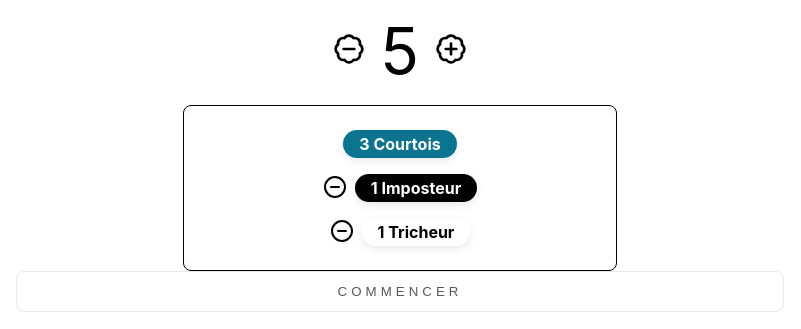
Test: CreateGamePage › Given I arrive on this page     When I click on remove count button     Then the counter is egal at 4
The width and height of the screenshot is (801, 329).
Click the button named "less-button": click(349, 50) [333,33,365,68]
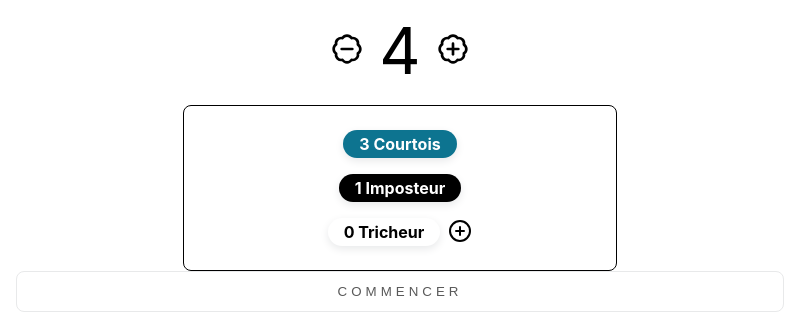
Expected: the text named "count-player" reads "4", [379,12,421,89]
